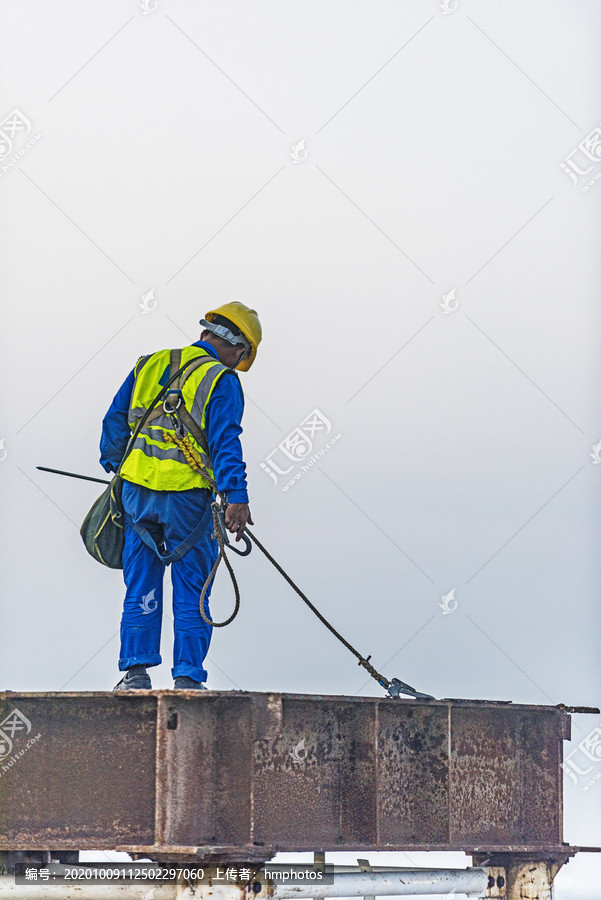safetyhat: (92, 292, 293, 688)
